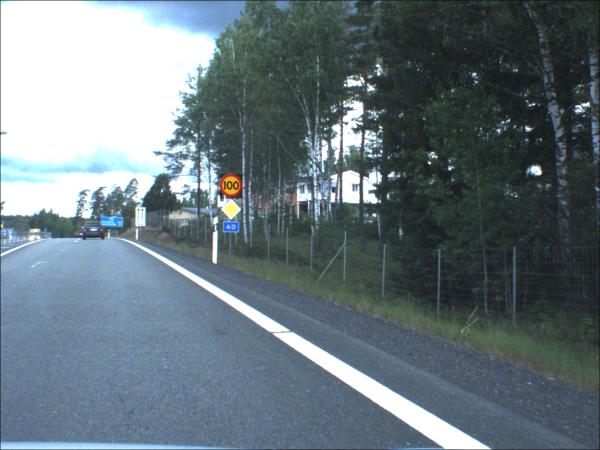100_SIGN: (221, 175, 244, 200)
PRIORITY_ROAD: (222, 200, 244, 222)
